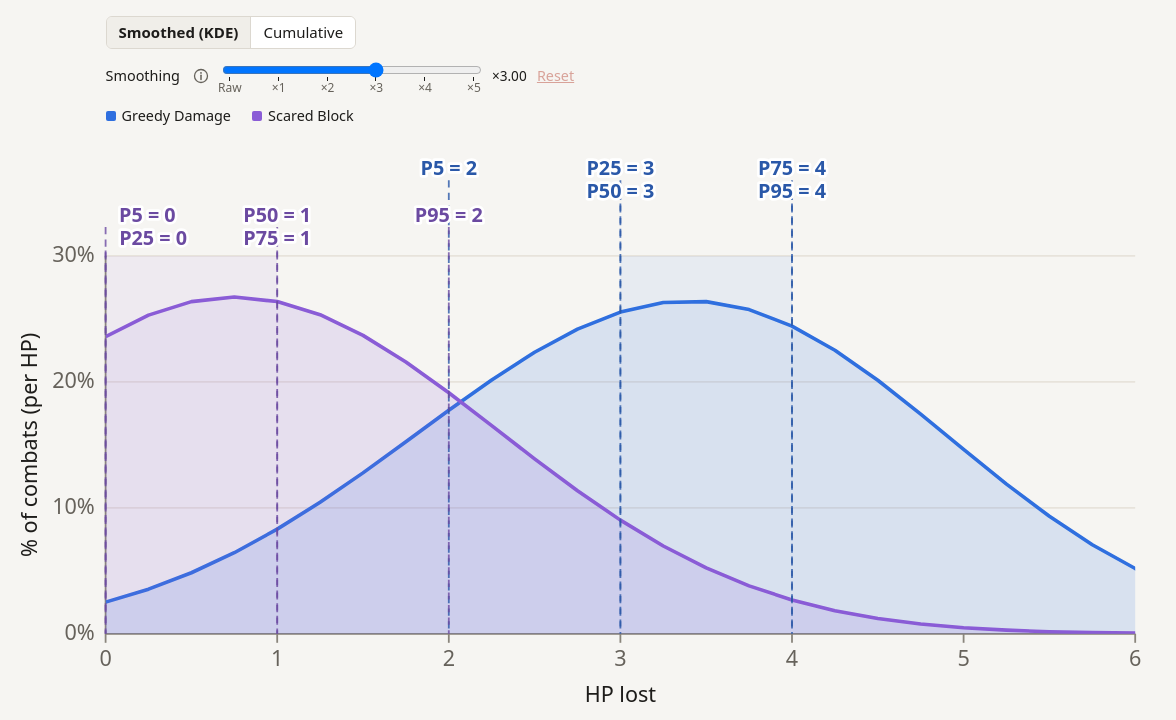
Test case: chart legend and smoothing slider › Reset puts the smoothing slider back to ×3 and is disabled there
The width and height of the screenshot is (1176, 720).
Expected: the button "Reset" is disabled, [537,65,574,86]
Set the slider to "1". click: (279, 70)
box: [222,58,482,80]
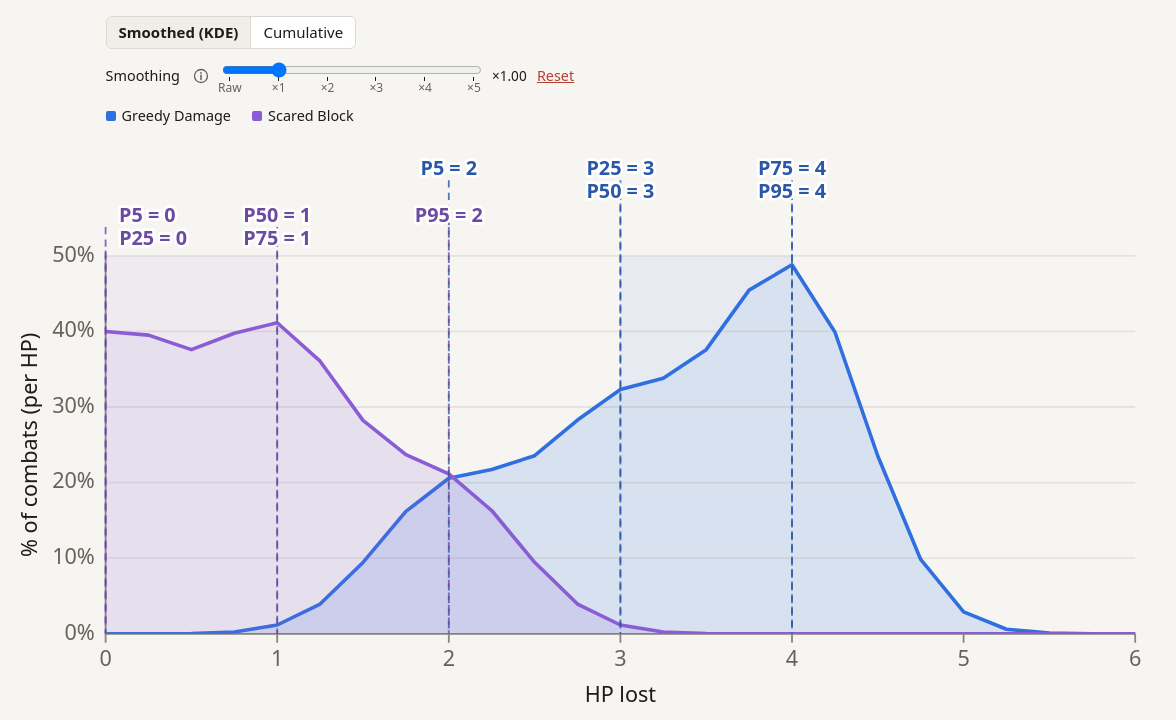
Expected: the button "Reset" is enabled
Click the button "Reset". click: (556, 76)
box: [537,65,574,86]
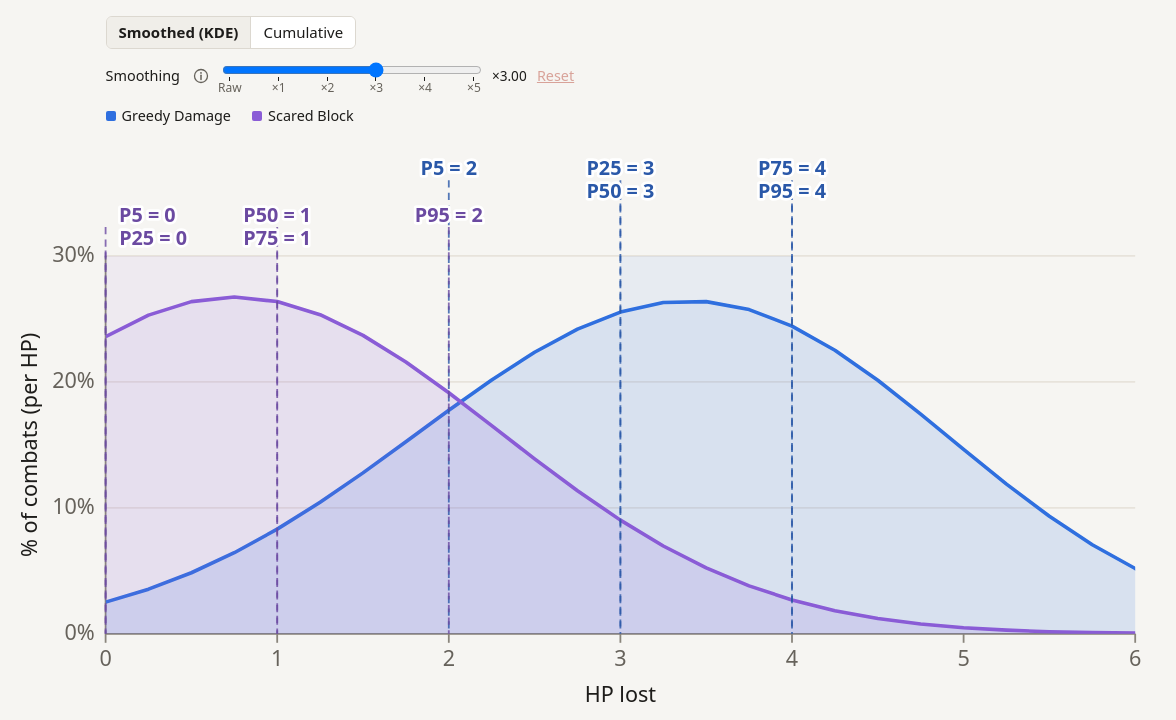
Expected: the slider holds "3", [222,58,482,80]
Expected: the button "Reset" is disabled, [537,65,574,86]
